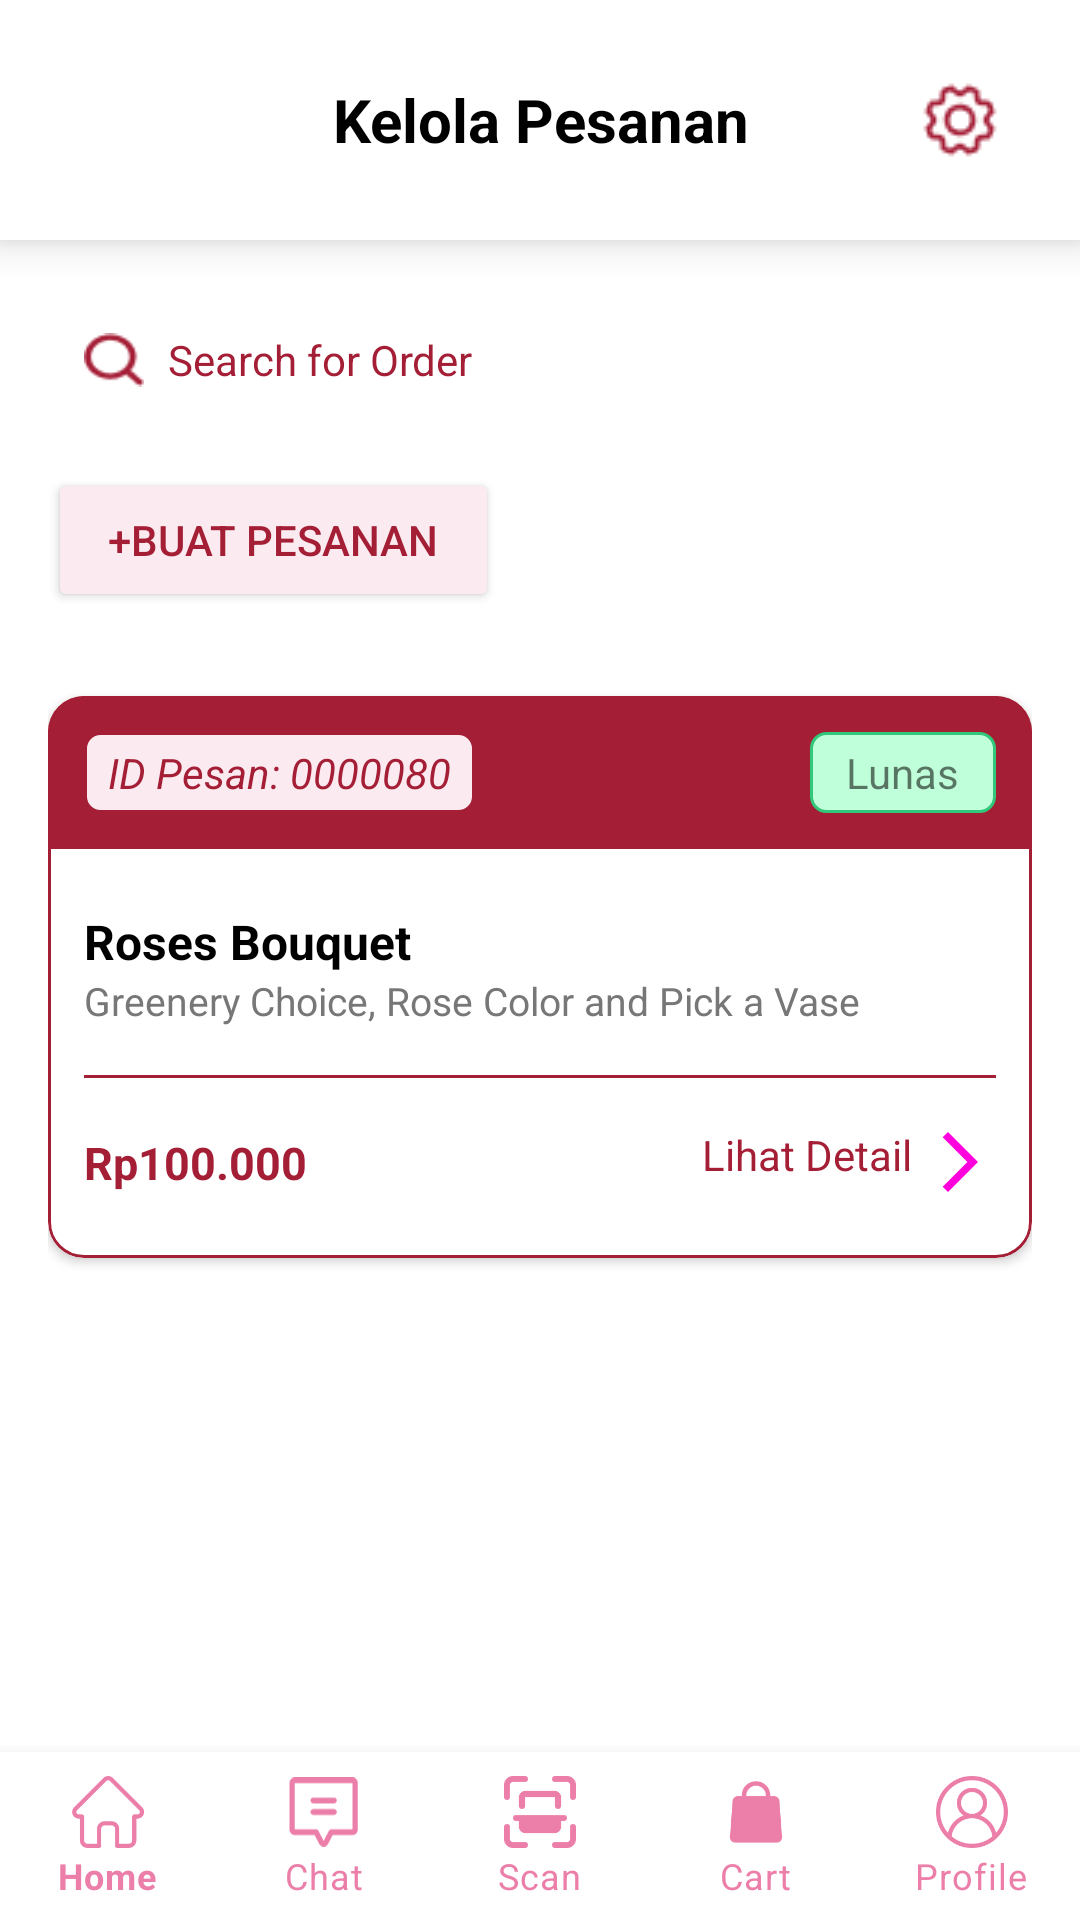

Where icons sit on this 1080x1920 app screen, as (x1, y1, x2, y2):
Setting: (923, 83, 997, 157)
